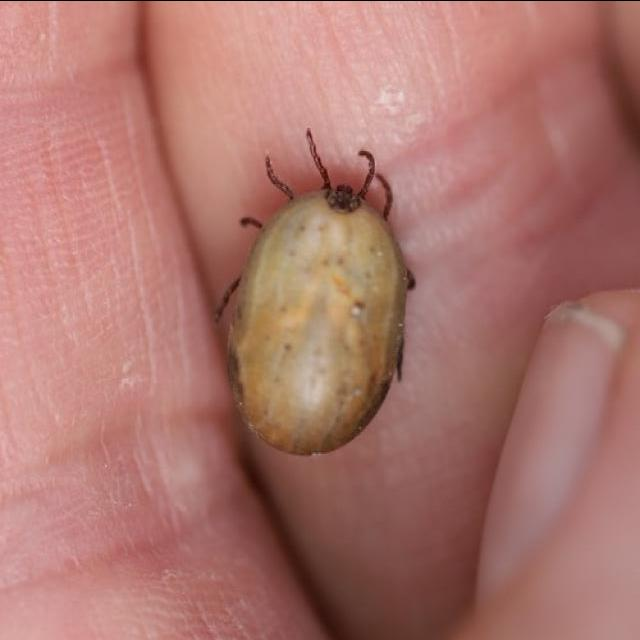Dermacentor Reticulatus-F-Fed: (215, 127, 416, 454)
